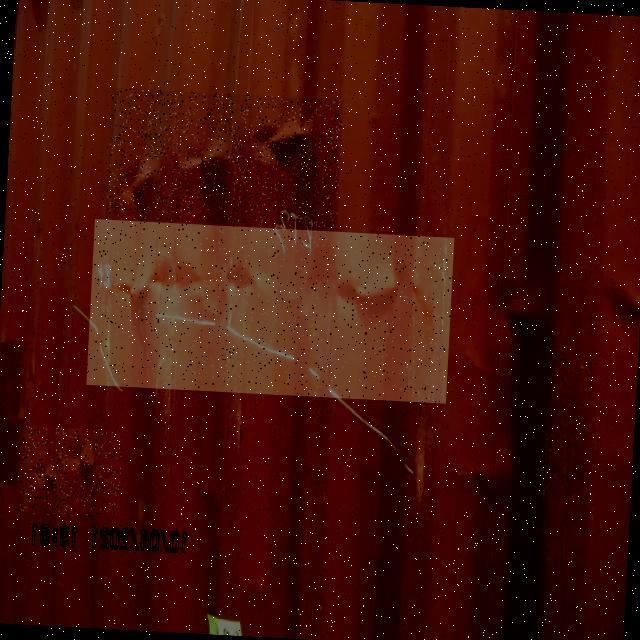Dent: (87, 219, 455, 404), (106, 88, 344, 230)
Minor-Dent: (19, 426, 123, 519)
